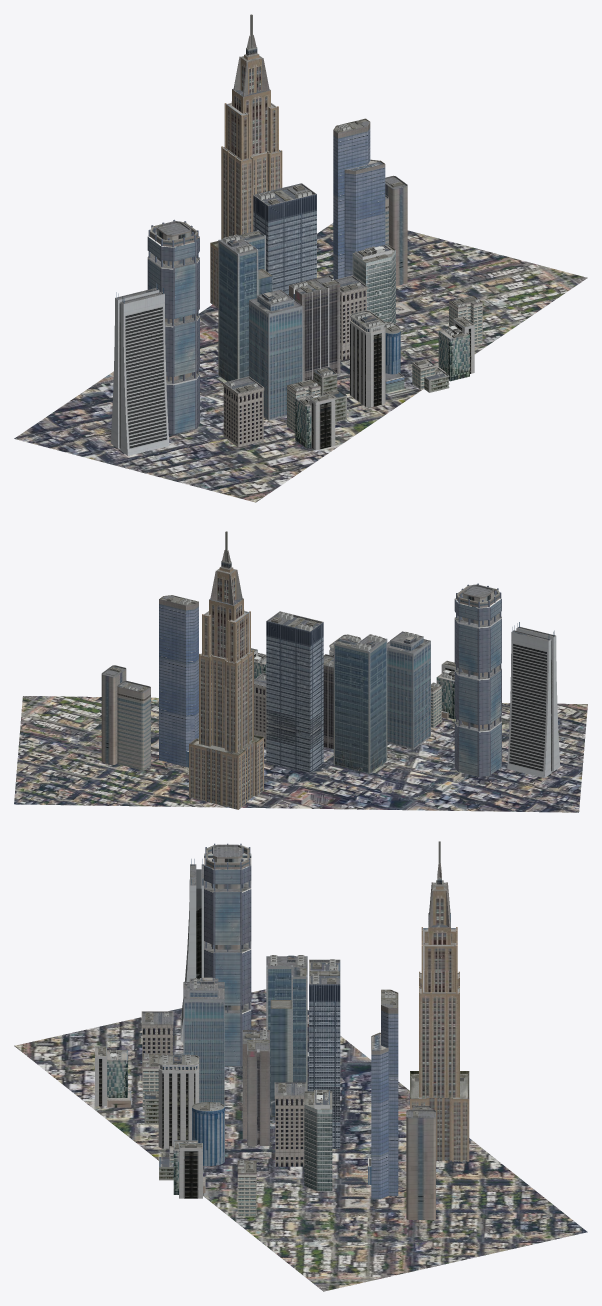
The model's file is low-poly_city_buildings.glb.
The picture shows the model from 3 angles, top to bottom: view 1: azimuth 30°, elevation 25°; view 2: azimuth 150°, elevation 25°; view 3: azimuth 270°, elevation 25°; orthographic projection. The views are drawn at different scales.
Visible parts, largest first — view 1: Object_4, Object_8; view 2: Object_4, Object_8; view 3: Object_4, Object_8.
Part boxes in pixels (<box>): Object_4: <box>110,14,482,455</box>; Object_8: <box>14,223,587,502</box>; Object_4: <box>101,531,560,809</box>; Object_8: <box>14,696,587,812</box>; Object_4: <box>95,841,469,1219</box>; Object_8: <box>14,989,587,1291</box>.
Bounding box in the file's own units: 5.74 × 2.81 × 4.56.
Materials: 2 (2 with a texture image).
